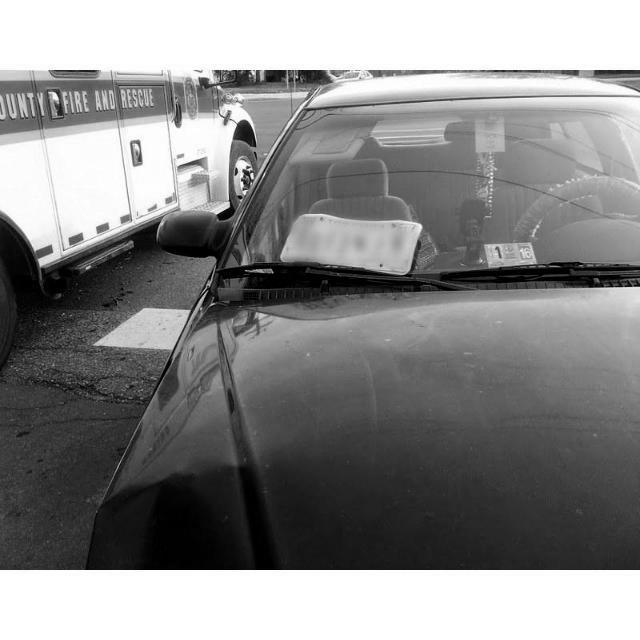bonnet-dent: (208, 297, 457, 411)
